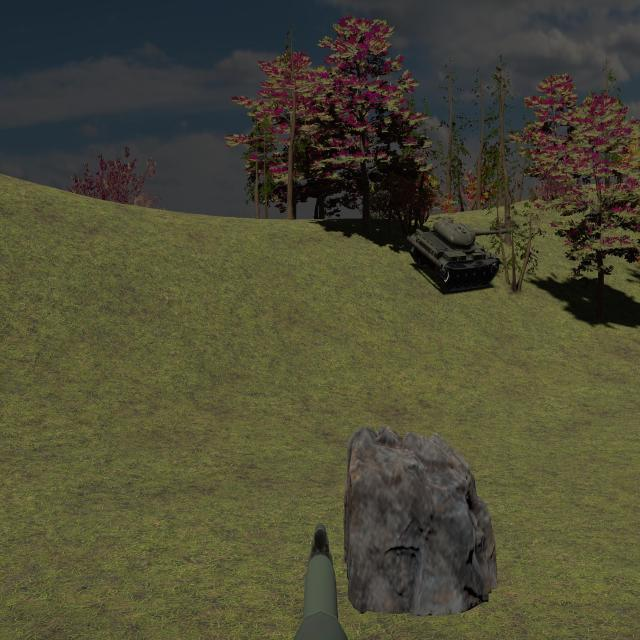Tank: (407, 219, 512, 294)
